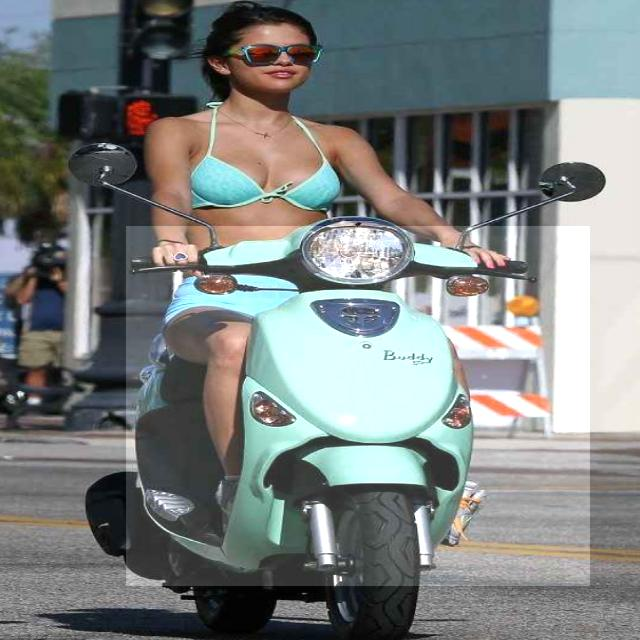Bike: (126, 226, 590, 586)
